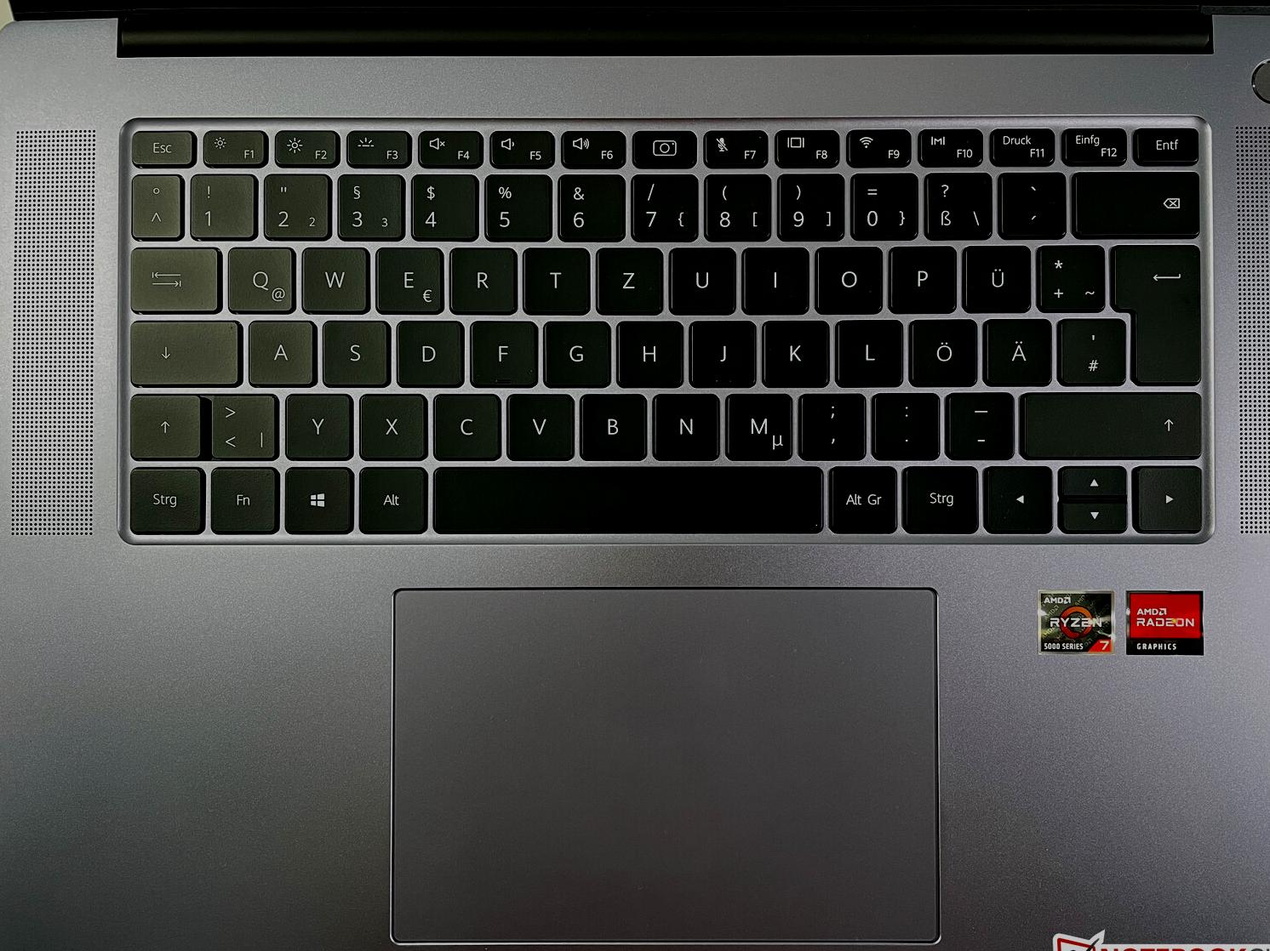0: (848, 168, 917, 238)
1: (186, 168, 256, 237)
2: (260, 168, 330, 237)
3: (334, 168, 403, 238)
4: (408, 168, 477, 238)
5: (481, 168, 551, 239)
6: (555, 168, 624, 239)
7: (628, 169, 698, 239)
8: (701, 168, 769, 239)
9: (774, 168, 844, 238)
a: (244, 316, 315, 384)
accent: (997, 168, 1065, 236)
ae: (982, 315, 1052, 384)
alt-left: (356, 463, 426, 532)
altgr-right: (827, 462, 897, 532)
b: (577, 390, 647, 458)
c: (431, 389, 501, 459)
caret: (129, 169, 183, 237)
comma: (796, 388, 865, 457)
d: (393, 316, 463, 386)
del: (1072, 167, 1200, 236)
e: (373, 242, 443, 313)
enter: (1109, 240, 1202, 384)
f: (468, 316, 537, 385)
g: (541, 316, 609, 386)
h: (615, 316, 683, 385)
hash: (1056, 313, 1125, 383)
i: (740, 242, 809, 310)
j: (688, 316, 756, 384)
k: (759, 316, 830, 384)
keyboard: (105, 109, 1233, 548)
l: (833, 315, 903, 384)
less: (206, 389, 277, 458)
m: (722, 389, 792, 458)
minus: (942, 388, 1013, 456)
n: (649, 389, 719, 458)
o: (812, 242, 883, 311)
oe: (907, 315, 977, 384)
p: (887, 242, 956, 310)
plus: (1035, 240, 1104, 310)
point: (869, 388, 939, 456)
q: (223, 242, 296, 312)
r: (448, 242, 518, 312)
s: (318, 316, 389, 385)
shift-left: (126, 390, 201, 458)
shift-lock: (127, 315, 239, 384)
shift-right: (1019, 386, 1202, 457)
space: (429, 462, 823, 532)
ss: (921, 168, 992, 237)
strg-left: (124, 462, 203, 533)
strg-right: (901, 462, 979, 531)
t: (520, 242, 589, 311)
tab: (128, 242, 219, 311)
u: (666, 242, 735, 312)
ue: (960, 241, 1031, 310)
v: (504, 389, 575, 458)
w: (299, 242, 369, 312)
x: (358, 390, 427, 458)
y: (282, 389, 352, 458)
z: (593, 242, 662, 312)
